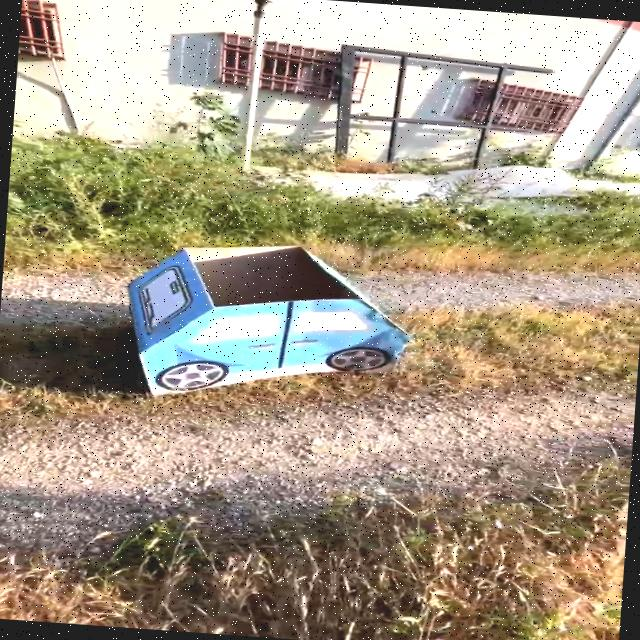blue_car: (49, 214, 472, 441)
